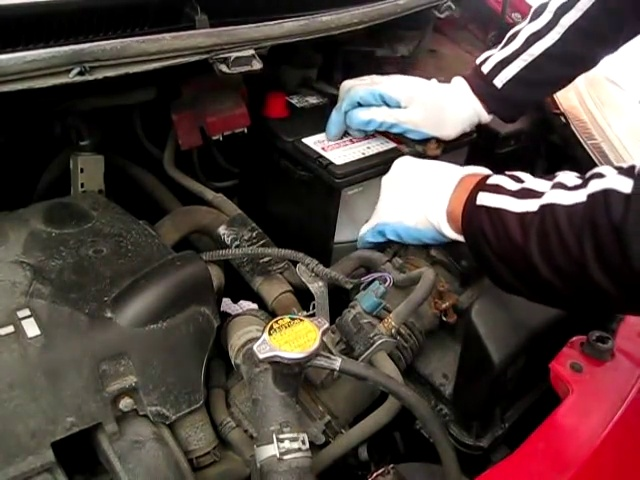battery: (255, 83, 443, 178)
pos_connected: (176, 79, 296, 147)
